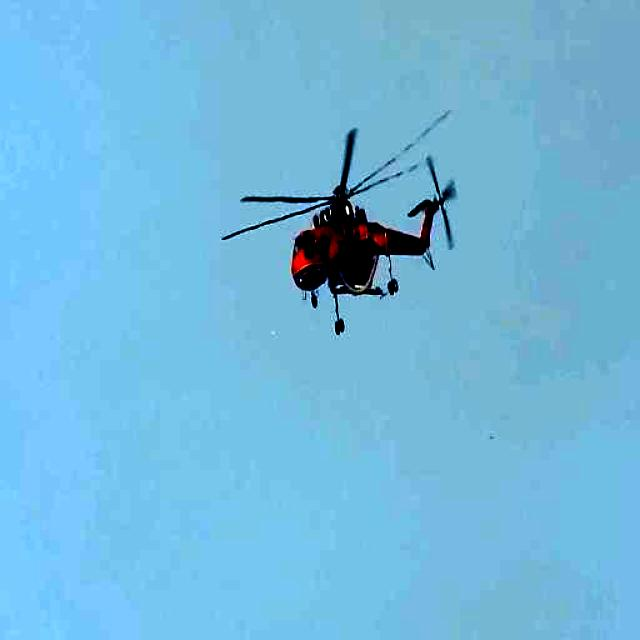drone: (219, 105, 460, 339)
